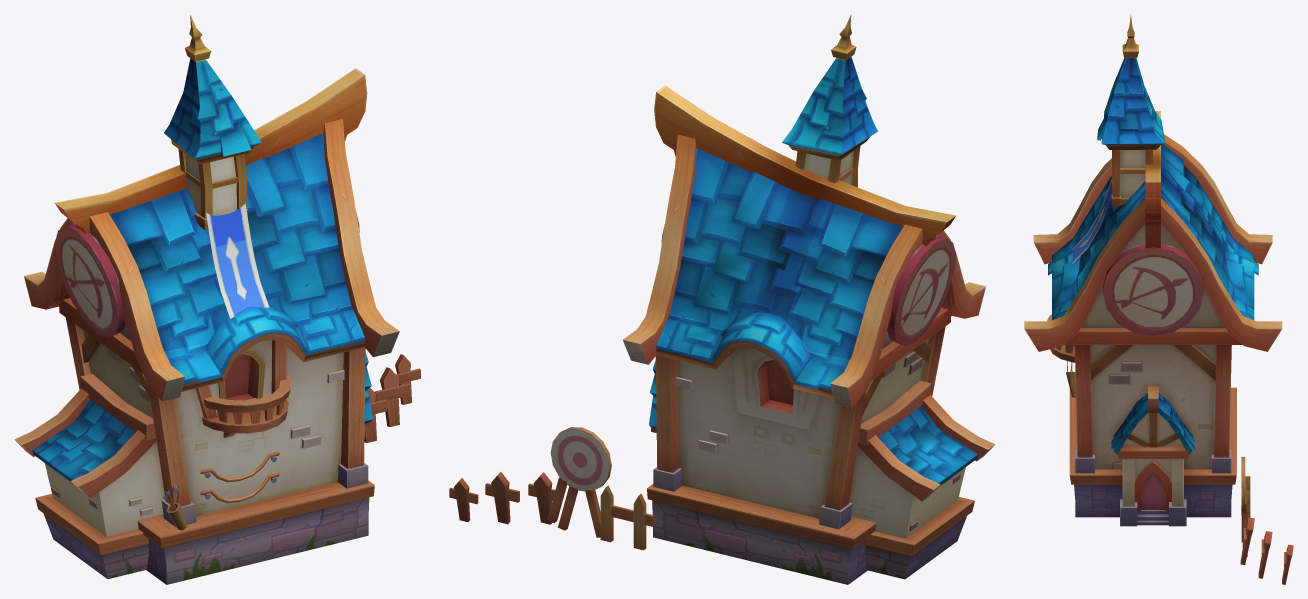
Rendered from ZhuCheng_JianZhu_02.fbx.
3 views of the same model, side by side, from view 1: azimuth 30°, elevation 25°; view 2: azimuth 150°, elevation 25°; view 3: azimuth 270°, elevation 25° (orthographic). The views are drawn at different scales.
Parts seen in each view (by area): view 1: ZhuCheng_JianZhu_02; view 2: ZhuCheng_JianZhu_02; view 3: ZhuCheng_JianZhu_02.
Boxes of the visible parts, box(x1,y1,x2,y2) form: ZhuCheng_JianZhu_02: box(14, 15, 420, 584); ZhuCheng_JianZhu_02: box(449, 14, 995, 584); ZhuCheng_JianZhu_02: box(1024, 14, 1293, 584).
Bounding box in the file's own units: 8.72 × 9.9 × 5.38.
